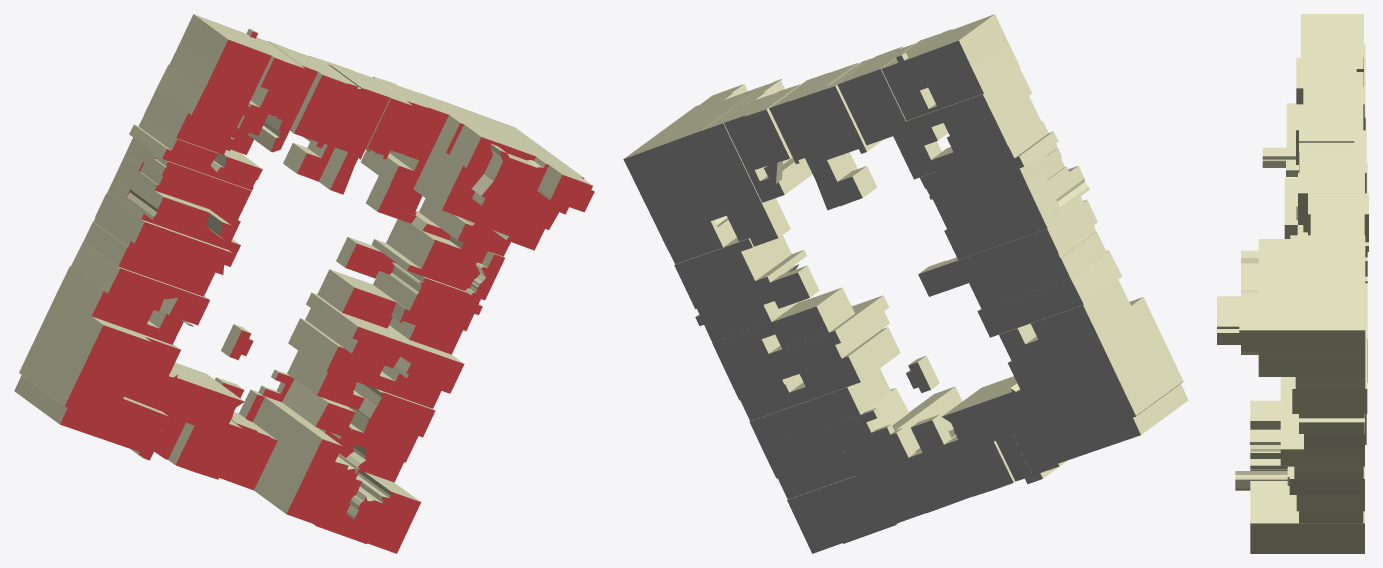
The model's file is project.obj.
The picture shows the model from 3 angles, left to right: view 1: azimuth 30°, elevation 25°; view 2: azimuth 150°, elevation 25°; view 3: azimuth 270°, elevation 25°; orthographic projection. The views are drawn at different scales.
Parts seen in each view (by area): view 1: 10-428-722-LoD13-3D.slice @ (736.25 ; 61.007 ; -0.751999).slice ; view 2: 10-428-722-LoD13-3D.slice @ (736.25 ; 61.007 ; -0.751999).slice ; view 3: 10-428-722-LoD13-3D.slice @ (736.25 ; 61.007 ; -0.751999).slice .
Boxes of the visible parts, bbox=[...] form: 10-428-722-LoD13-3D.slice @ (736.25 ; 61.007 ; -0.751999).slice : bbox=[14, 14, 594, 553]; 10-428-722-LoD13-3D.slice @ (736.25 ; 61.007 ; -0.751999).slice : bbox=[623, 14, 1188, 553]; 10-428-722-LoD13-3D.slice @ (736.25 ; 61.007 ; -0.751999).slice : bbox=[1217, 14, 1368, 553].
Bounding box in the file's own units: 116 × 117 × 33.81.
